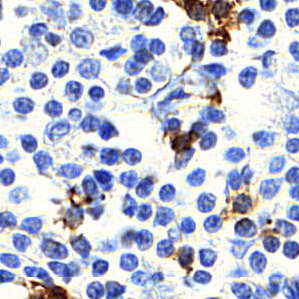Lymphocyte: (166, 130, 199, 151)
